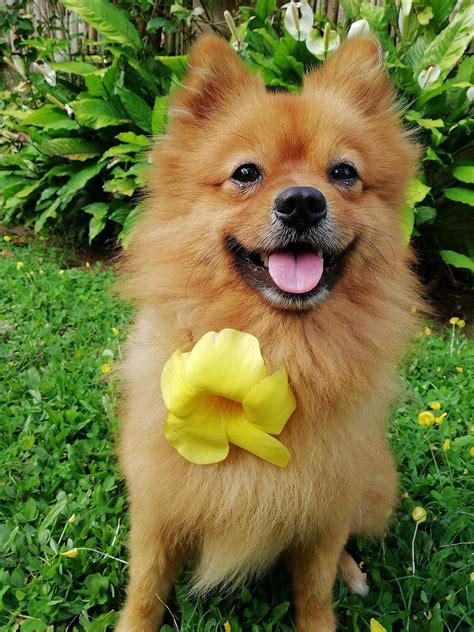dog: (121, 34, 413, 632)
